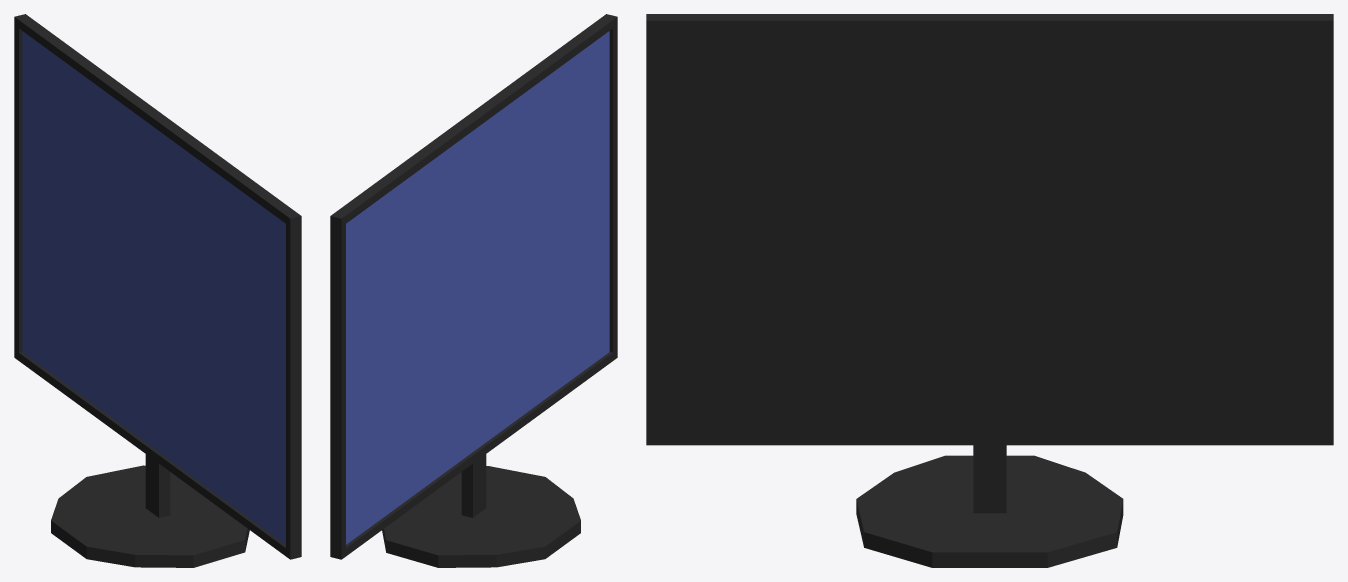
File: Screen_6.fbx
3 renders of one model, left to right at view 1: azimuth 30°, elevation 25°; view 2: azimuth 150°, elevation 25°; view 3: azimuth 270°, elevation 25°, orthographic. The views are drawn at different scales.
Visible parts, largest first — view 1: Screen_6; view 2: Screen_6; view 3: Screen_6.
Boxes of the visible parts, bbox=[...] form: Screen_6: bbox=[14, 14, 301, 567]; Screen_6: bbox=[330, 14, 617, 567]; Screen_6: bbox=[646, 14, 1333, 567].
Size of the model in its own units: 0.22 by 0.5388 by 0.6608.
